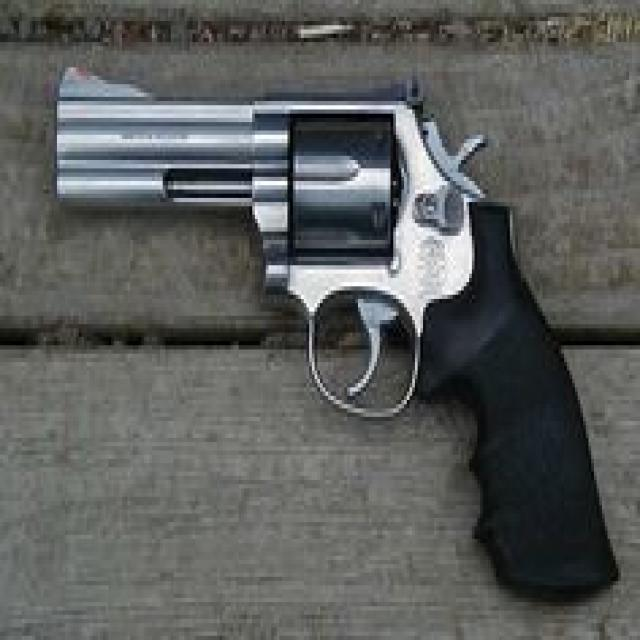revolver: (39, 31, 630, 620)
